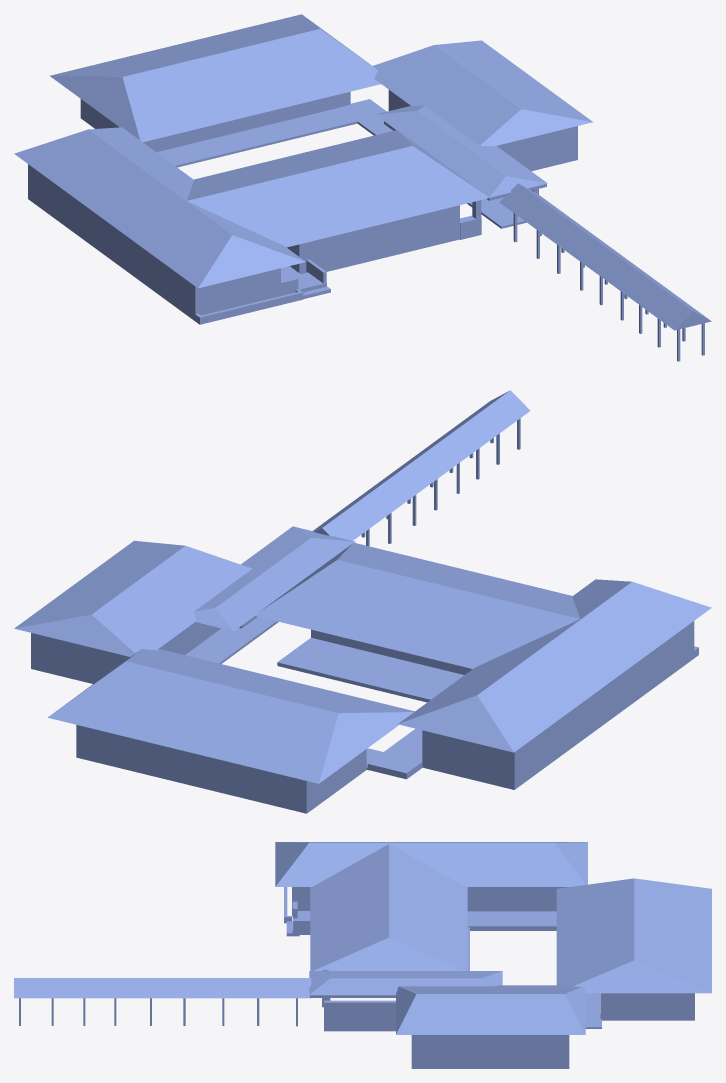
File: BSEDNav.glb
The picture shows the model from 3 angles, top to bottom: view 1: azimuth 30°, elevation 25°; view 2: azimuth 150°, elevation 25°; view 3: azimuth 270°, elevation 25°; orthographic projection. The views are drawn at different scales.
Parts seen in each view (by area): view 1: roof1.001; view 2: roof1.001; view 3: roof1.001.
Part boxes in pixels (box(x1,y1,x2,y2)): roof1.001: box(14, 14, 711, 361); roof1.001: box(14, 390, 711, 813); roof1.001: box(14, 842, 711, 1068).
Size of the model in its own units: 43.51 by 6.13 by 66.42.
